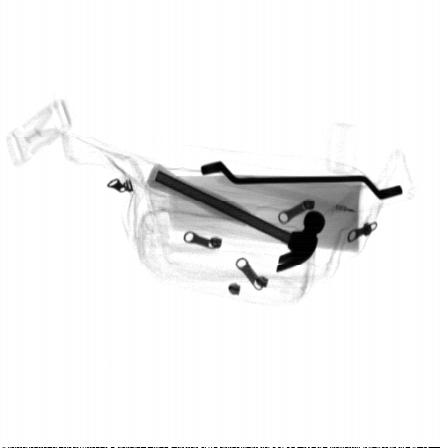Hammer: (144, 160, 327, 272)
Wrench: (199, 160, 405, 203)
